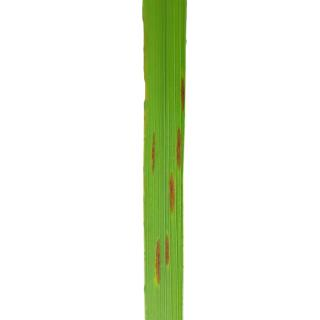Bercak-Cokelat-Sempit: (153, 232, 165, 288), (165, 172, 179, 219), (172, 123, 185, 170), (176, 74, 189, 116), (163, 230, 177, 266), (150, 125, 158, 177)
